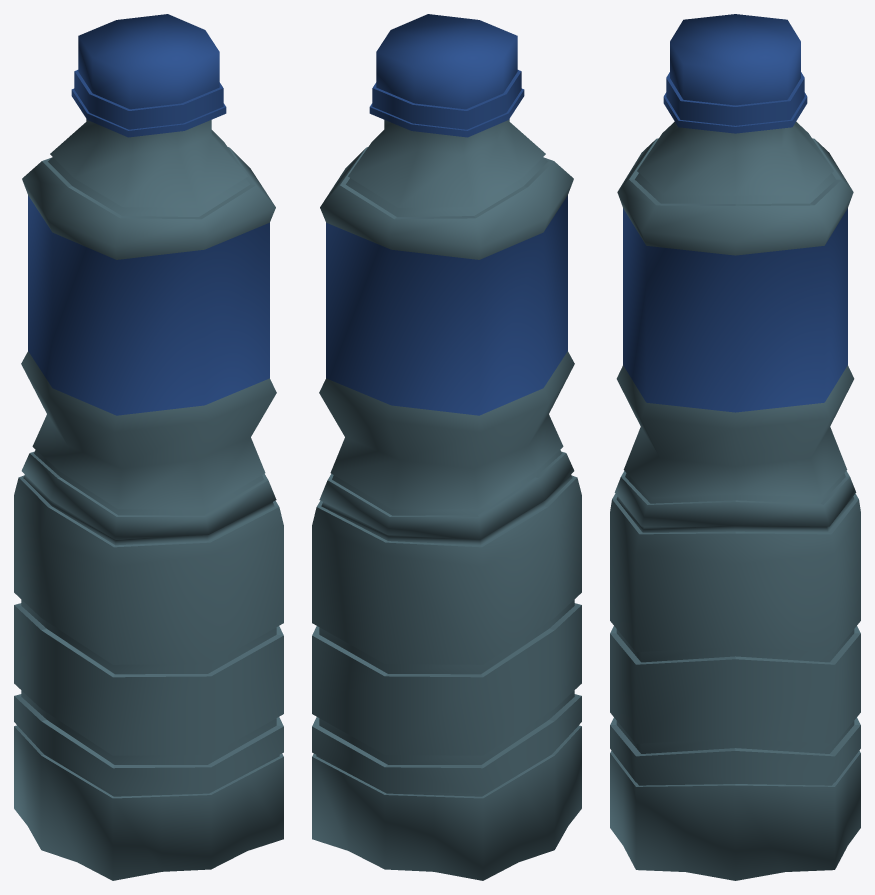
File: GarrafaPlastico.fbx
The picture shows the model from 3 angles, left to right: view 1: azimuth 30°, elevation 25°; view 2: azimuth 150°, elevation 25°; view 3: azimuth 270°, elevation 25°; orthographic projection.
Visible parts, largest first — view 1: GarrafaPlastico; view 2: GarrafaPlastico; view 3: GarrafaPlastico.
Part boxes in pixels (x1,y1,x2,y2): GarrafaPlastico: [14, 14, 283, 880]; GarrafaPlastico: [312, 14, 581, 880]; GarrafaPlastico: [610, 14, 860, 880].
Size of the model in its own units: 35.92 by 124 by 35.92.
